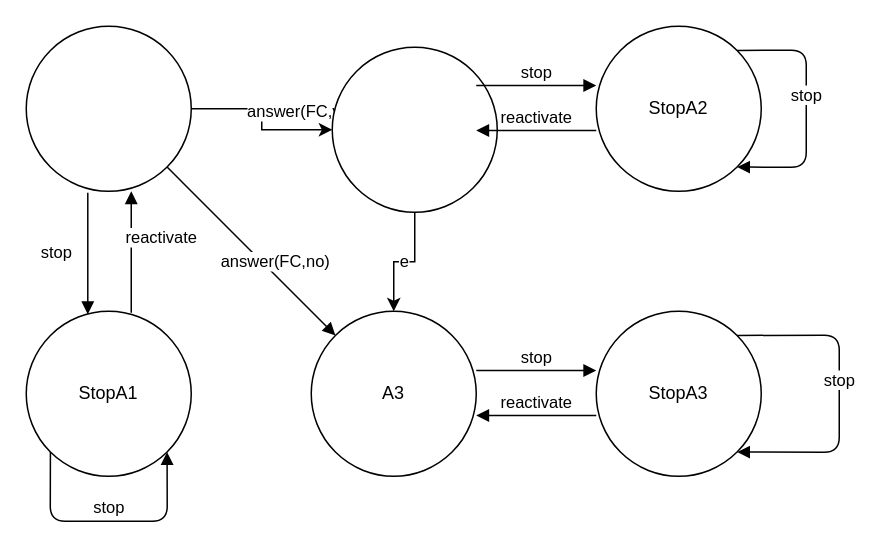
Image size: 881x560. Some labels were removed from this diagram. The shapes that lost their labels are listed below. From the top down, each one's centre as x and y in pixels, then its label:
At point (108, 108): "A6".
At point (414, 129): "A7".
